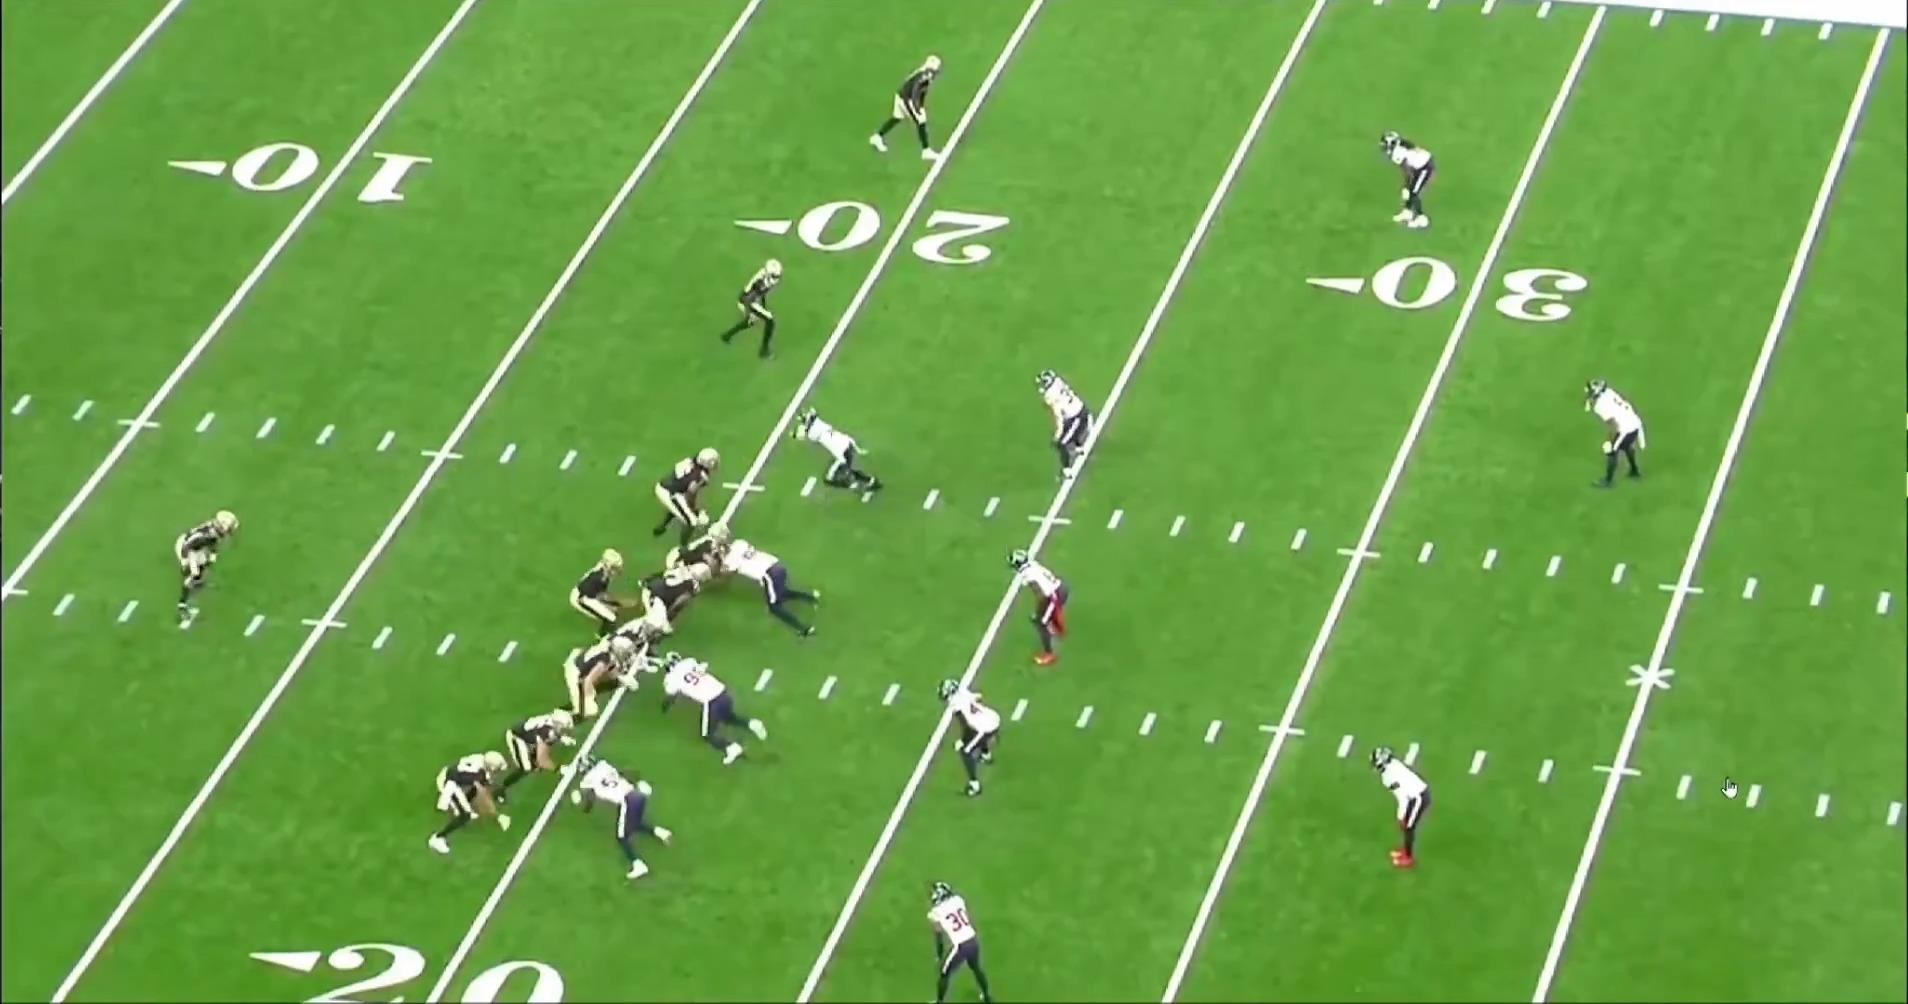defense: (655, 650, 772, 772), (570, 752, 671, 884), (720, 536, 827, 644), (917, 879, 995, 1004), (1368, 747, 1436, 877), (793, 404, 883, 502), (1040, 369, 1108, 494), (935, 674, 1001, 801), (1002, 544, 1069, 668), (1580, 376, 1646, 497), (1383, 131, 1440, 236)
oline: (558, 634, 642, 727), (654, 443, 728, 547), (650, 535, 733, 624), (595, 604, 663, 689), (659, 521, 737, 571)
qb: (566, 545, 637, 645)
skill: (419, 748, 509, 862), (857, 49, 943, 166), (715, 254, 792, 367), (173, 506, 243, 619), (491, 704, 578, 786)
